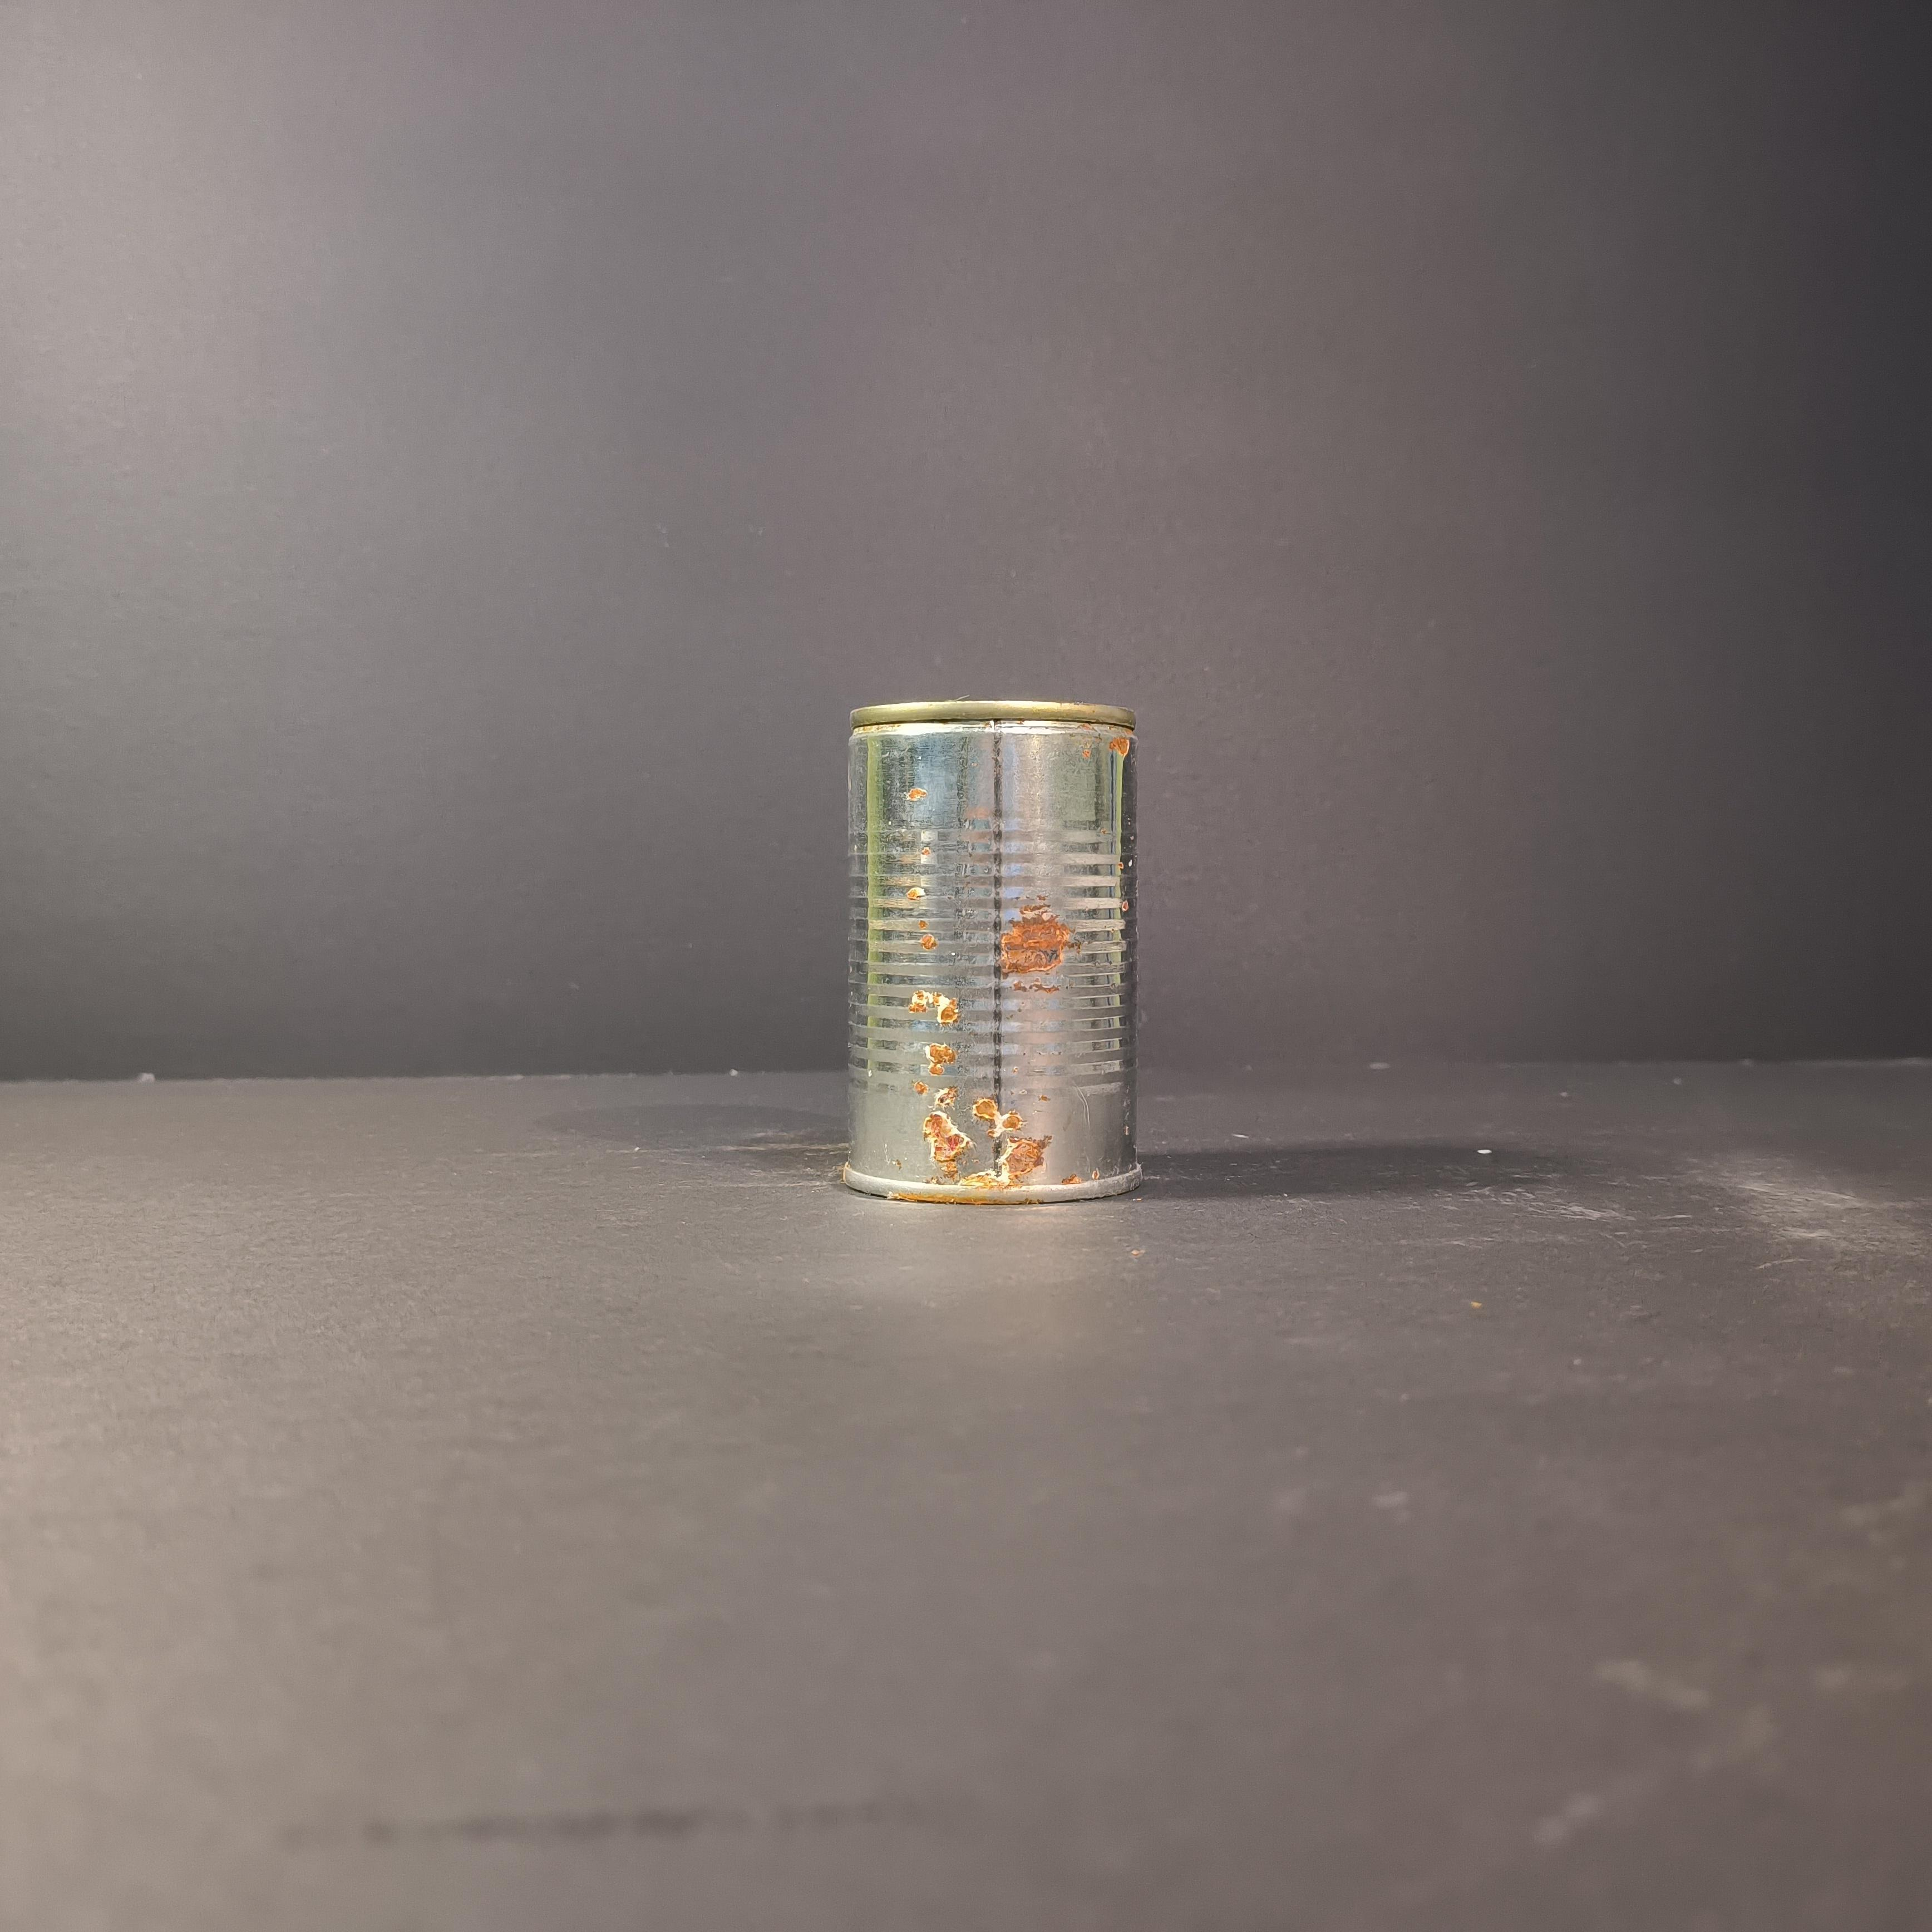Rusted: (826, 679, 1143, 1219)
